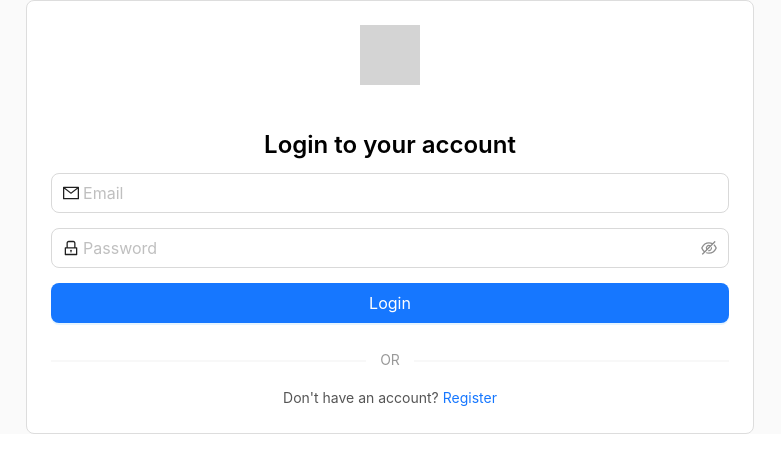
Test: AuthPage › switches to register mode
Click the link "Register" at (470, 398), box [443,389,497,406]
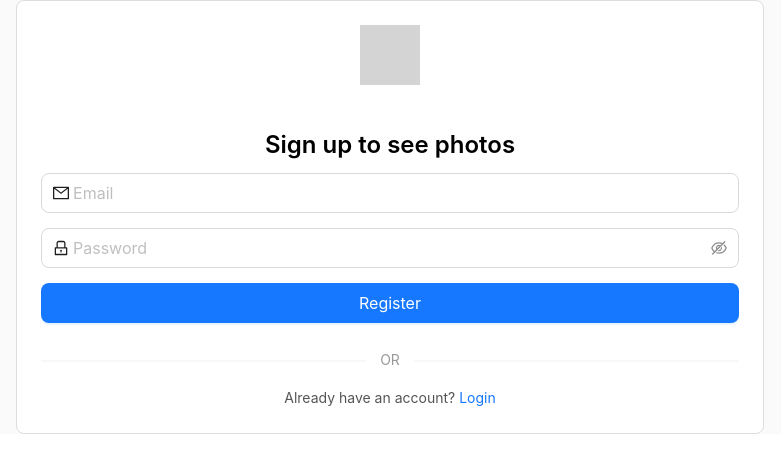
Now the heading "Sign up to see photos" is shown, box [265,130,515,159]
